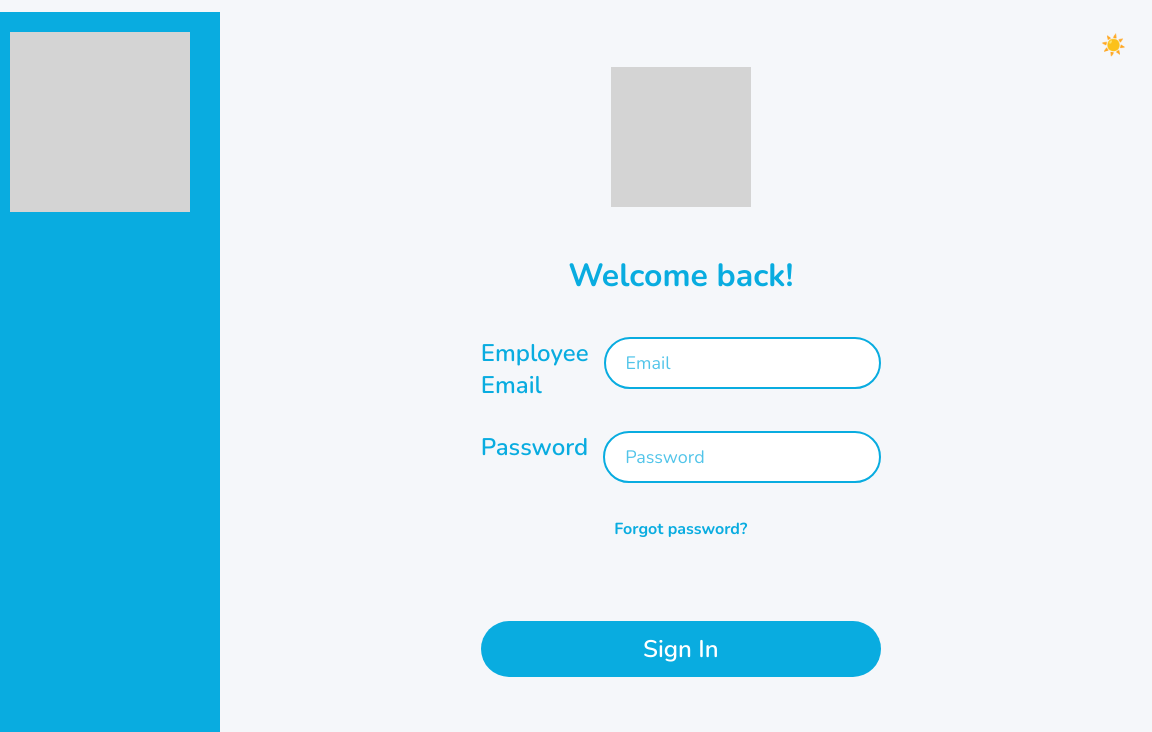
it: Login Component › handles password reset functionality
The image size is (1152, 732).
Click the link "Forgot password?" at (681, 529), box top-left (614, 518), bottom-right (747, 540)
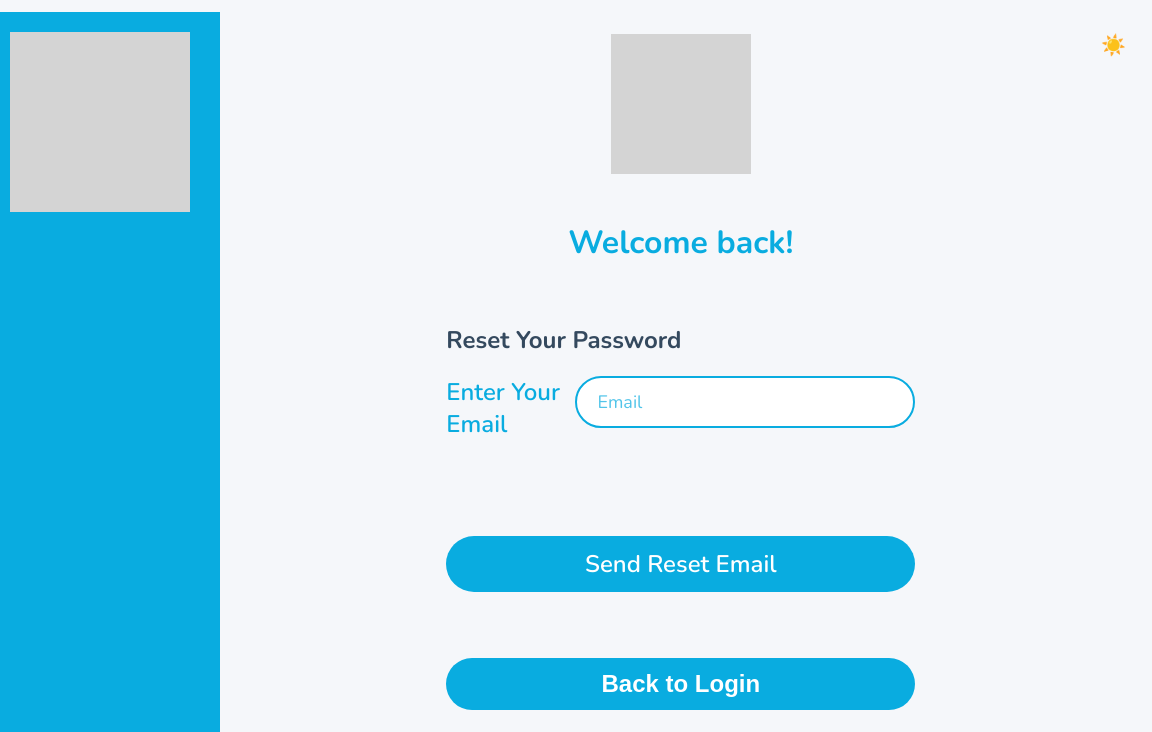
Type "reset@example.com" into the field with placeholder "Email" at (745, 402), box top-left (576, 376), bottom-right (915, 428)
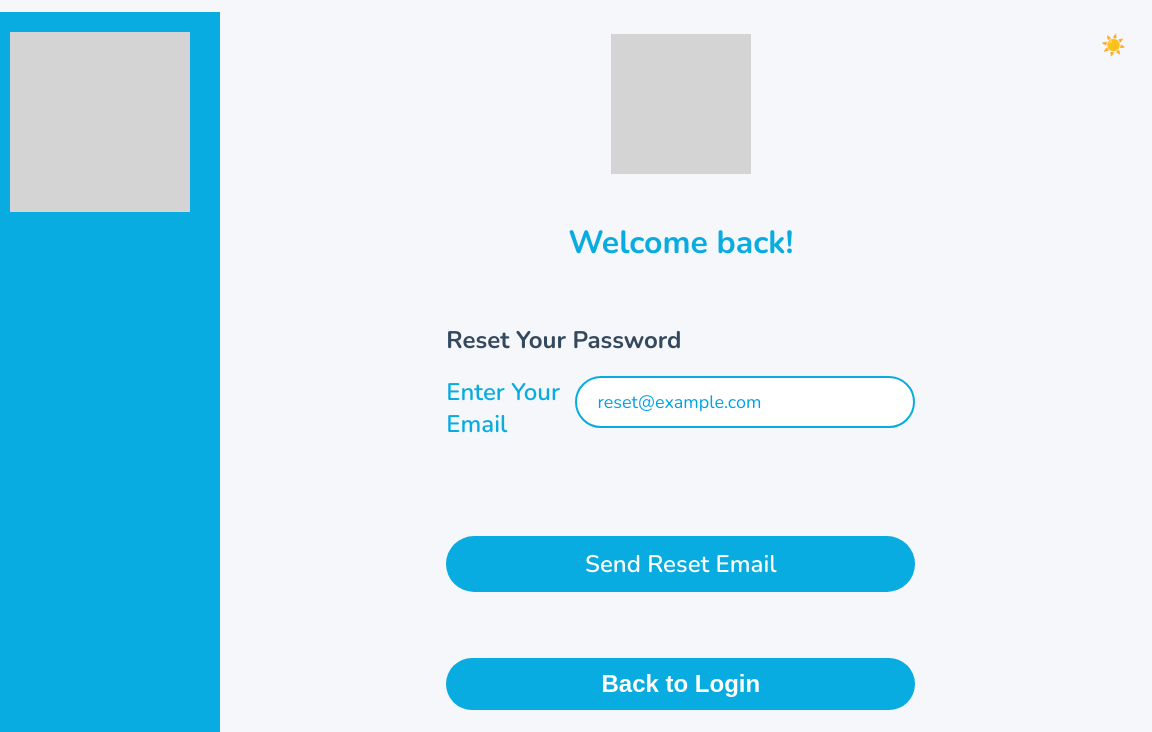
Click the button "Send Reset Email" at (681, 564), box top-left (446, 536), bottom-right (915, 592)
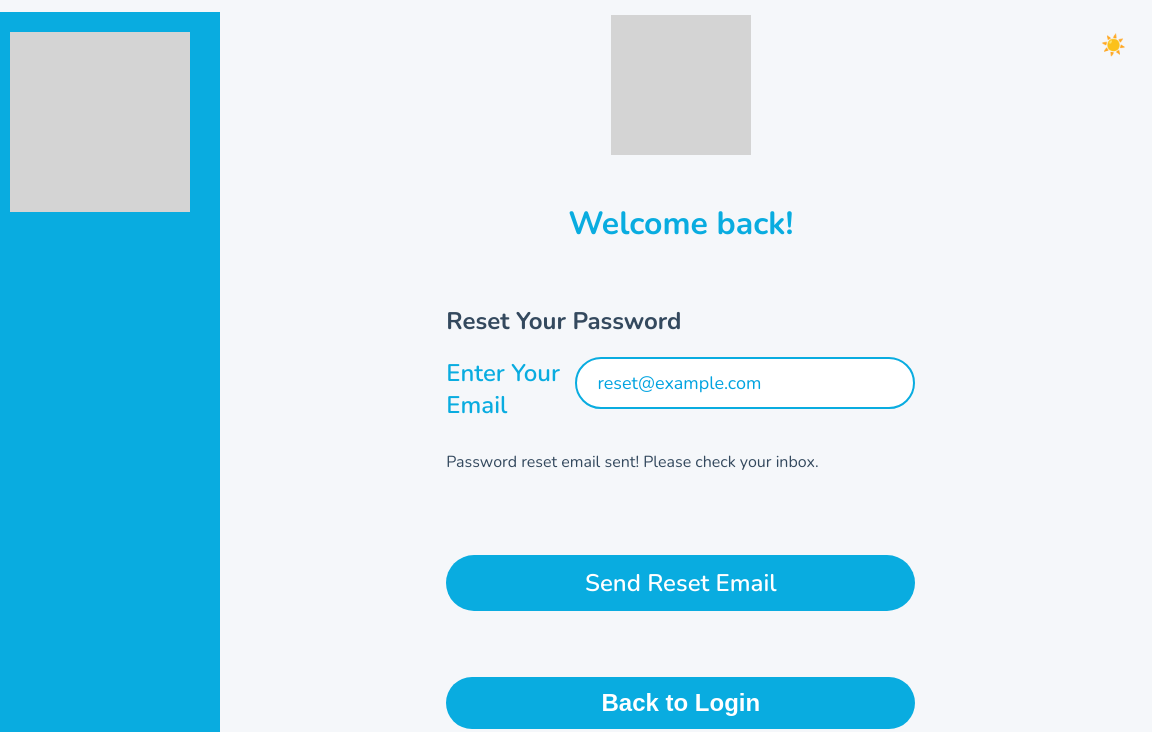
Check: the text "Password reset email sent! Please check your inbox." is shown, box top-left (446, 451), bottom-right (819, 473)
